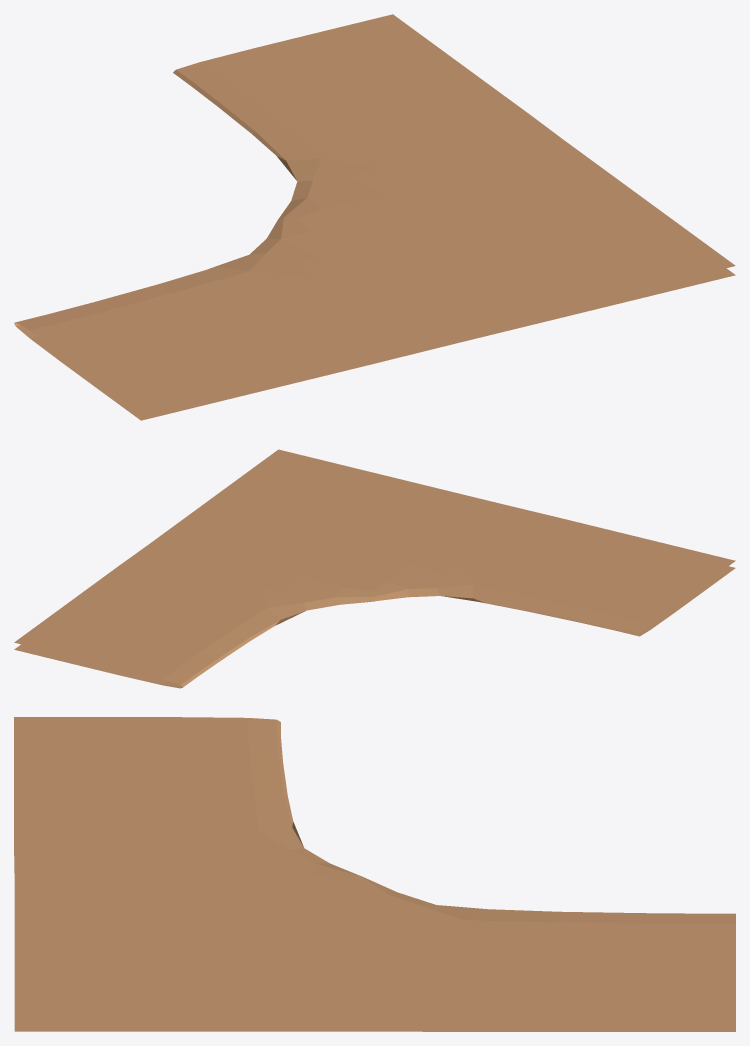
The model's file is mid_watered_soil_tile_1_2_3.fbx.
The picture shows the model from 3 angles, top to bottom: view 1: azimuth 30°, elevation 25°; view 2: azimuth 150°, elevation 25°; view 3: azimuth 270°, elevation 25°; orthographic projection. The views are drawn at different scales.
Parts seen in each view (by area): view 1: _Watered_Corner_1_2_3; view 2: _Watered_Corner_1_2_3; view 3: _Watered_Corner_1_2_3.
Part boxes in pixels (box(x1,y1,x2,y2)): _Watered_Corner_1_2_3: box(14, 14, 735, 420); _Watered_Corner_1_2_3: box(14, 449, 735, 688); _Watered_Corner_1_2_3: box(14, 717, 735, 1031).
Size of the model in its own units: 1 by 1 by 0.0149.
